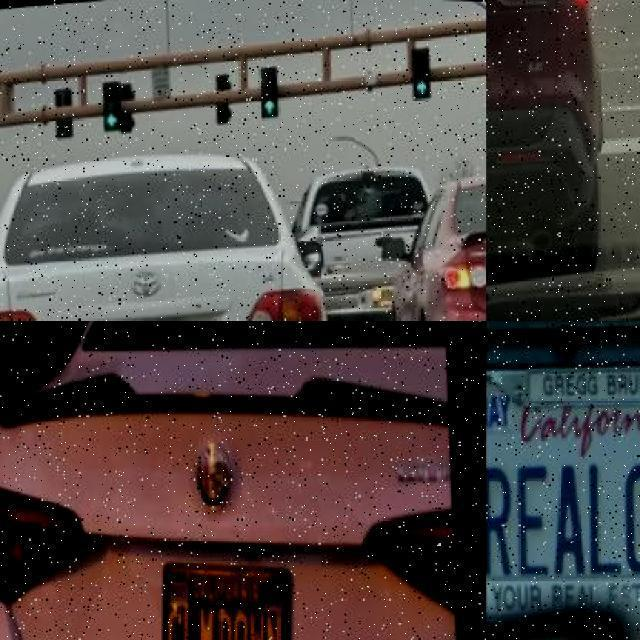LicensePlate: (486, 332, 640, 640), (159, 546, 307, 640)
